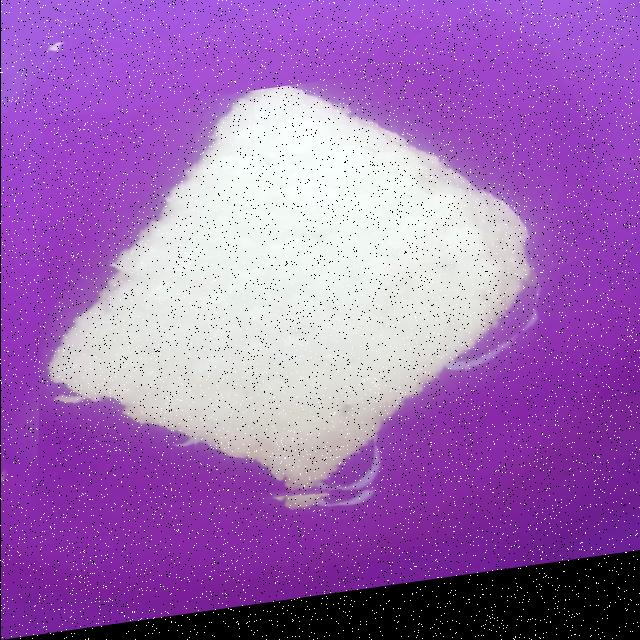litter: (37, 65, 551, 552)
